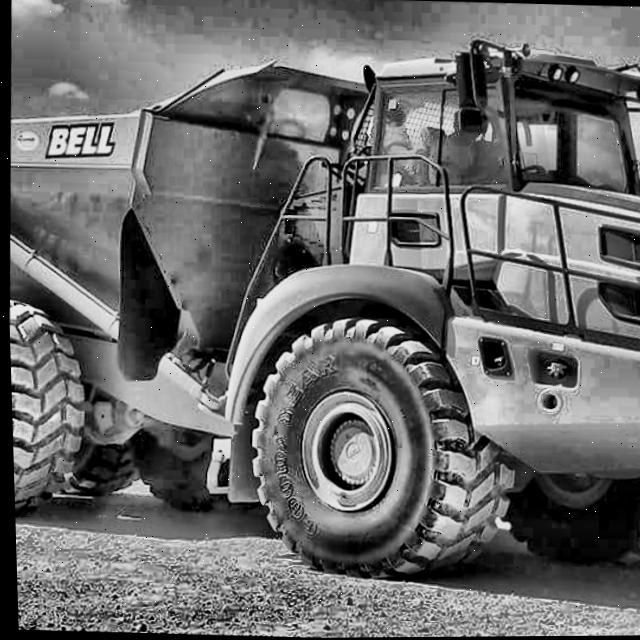dump_truck: (0, 5, 640, 630)
